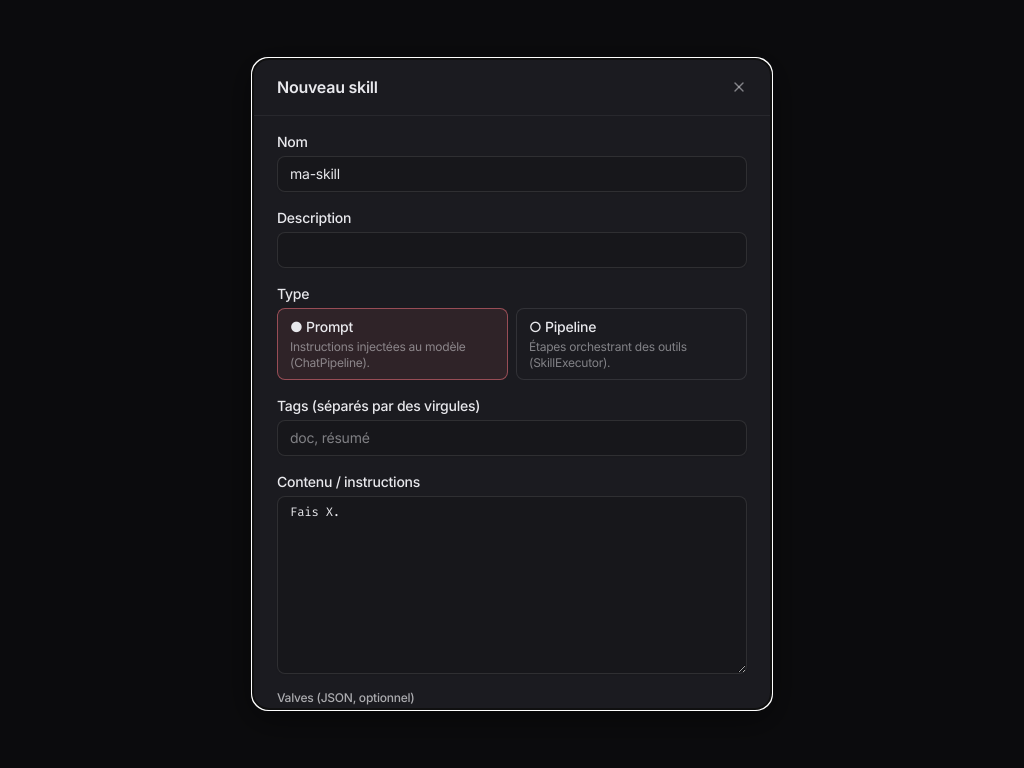
SkillDialog › bascule vers Pipeline au clic souris (le contenu disparaît, les outils apparaissent)
The image size is (1024, 768).
Expected: the text "Contenu / instructions" is shown, [277, 473, 420, 490]
Click the button "○ Pipeline Étapes orchestrant des outils (SkillExecutor).": (632, 344) [516, 308, 747, 380]
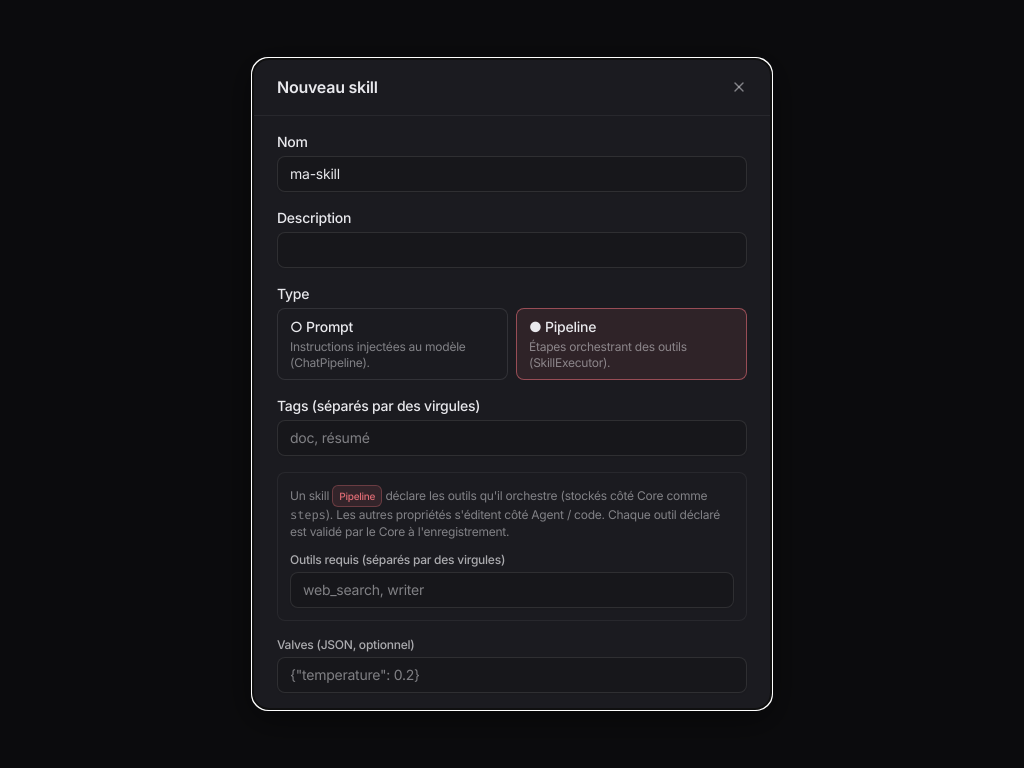
Expected: the text "Contenu / instructions" is gone
Expected: the text "Outils requis (séparés par des virgules)" is shown, [290, 552, 505, 567]
